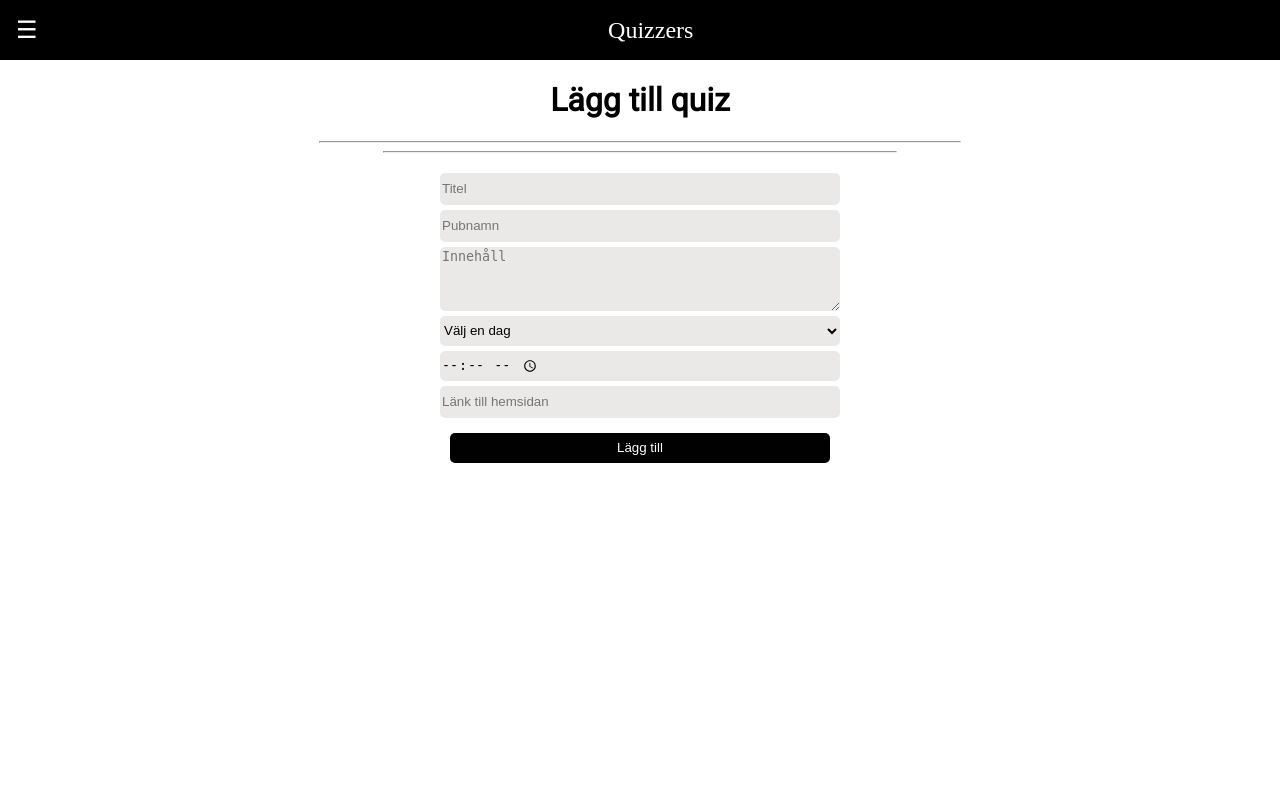
Post Form › should show validation errors
Click the submit button.
click(640, 448)  # box [450,433,830,463]
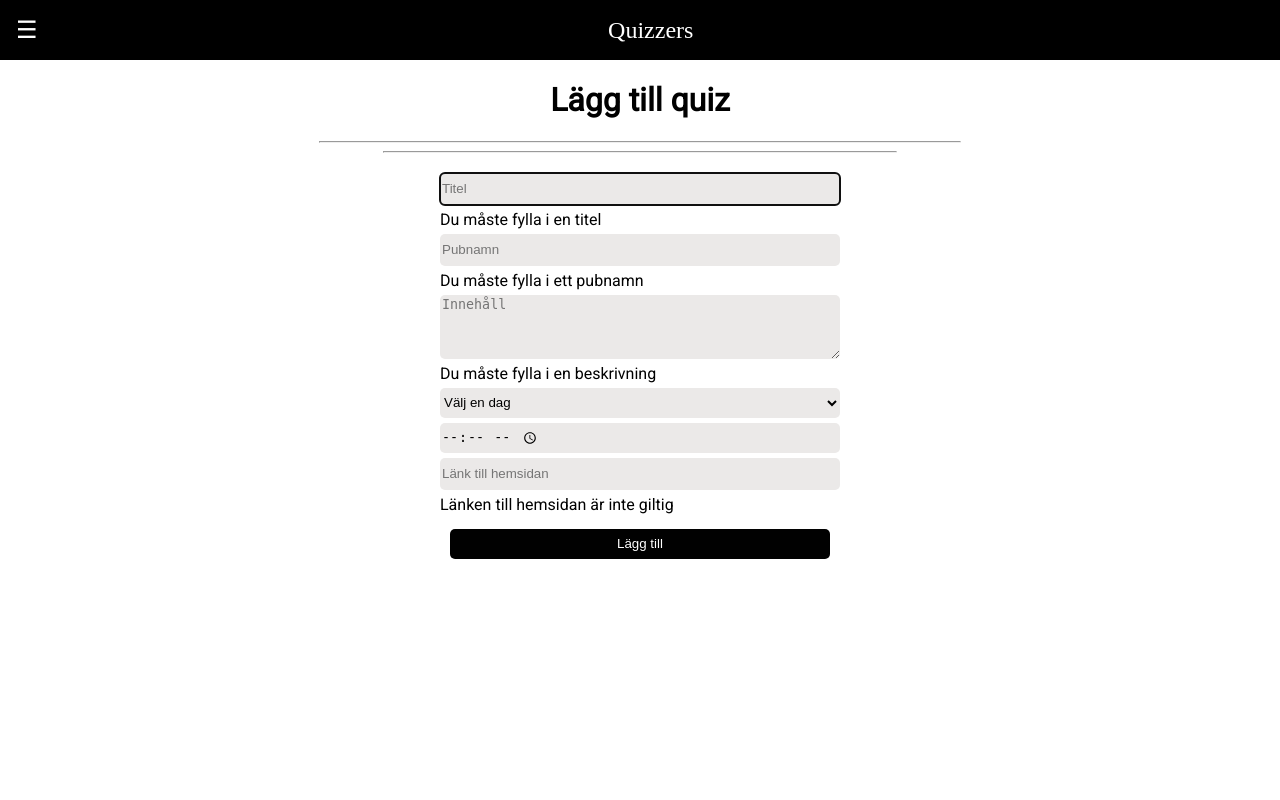
Expected: the text "Du måste fylla i en titel" is shown, [440,210,601,229]
Expected: the text "Du måste fylla i ett pubnamn" is shown, [440,271,644,290]
Expected: the text "Du måste fylla i en beskrivning" is shown, [440,364,656,383]
